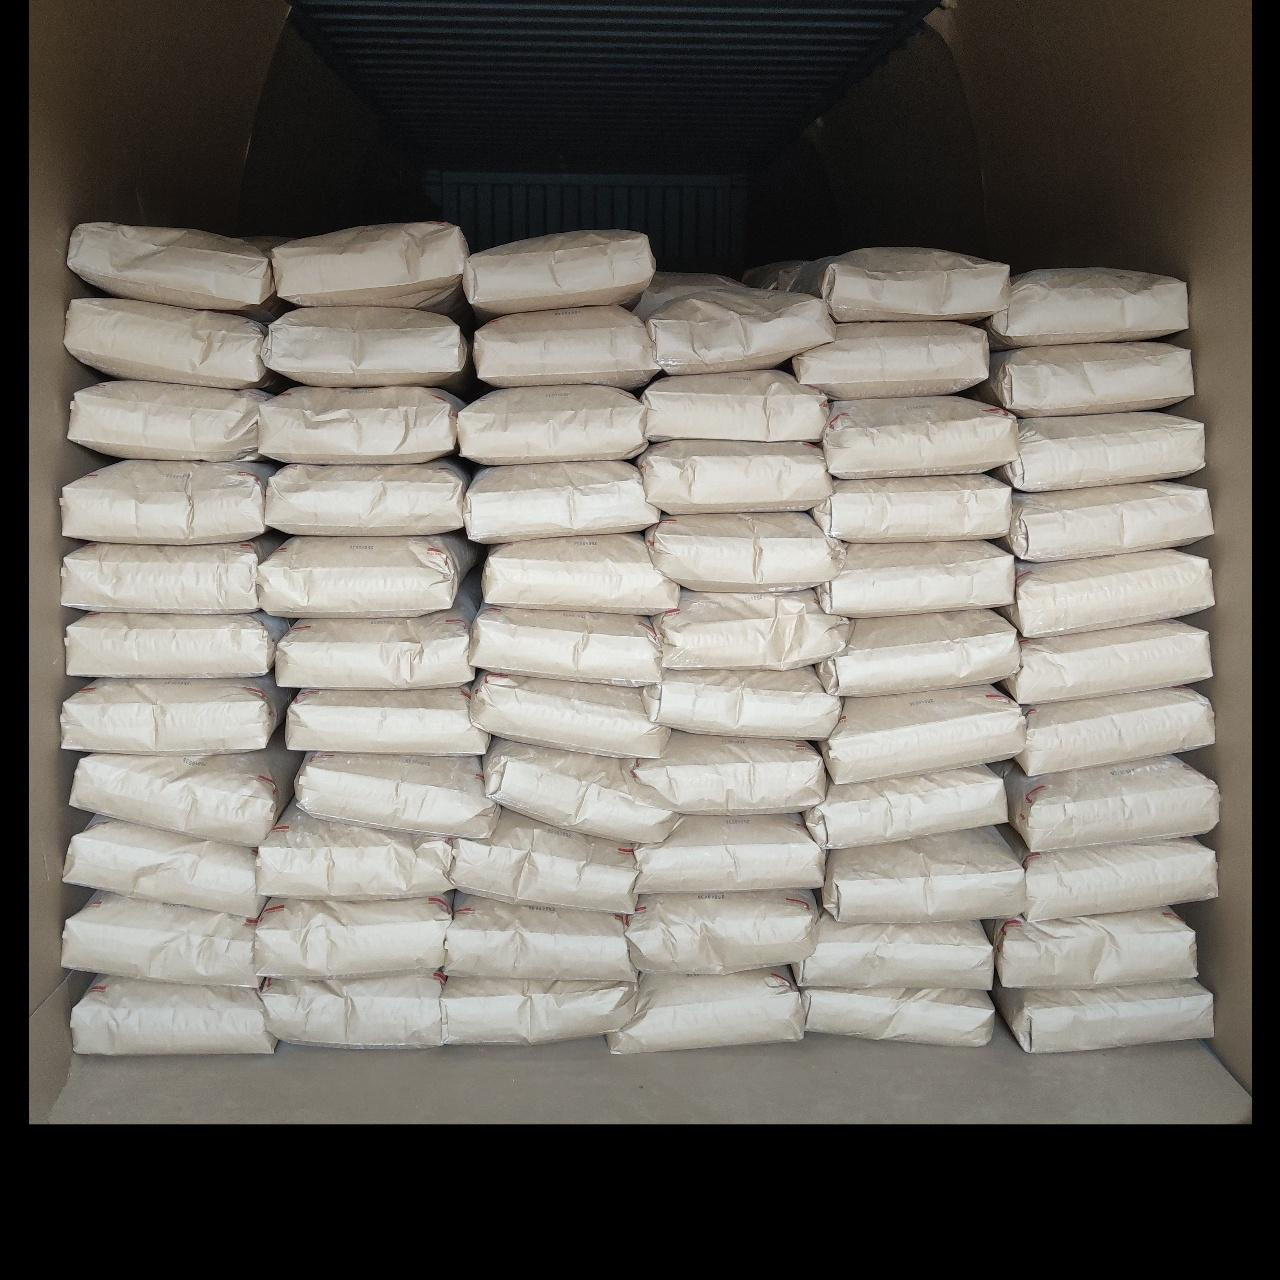sack: (72, 740, 300, 844), (486, 740, 678, 842), (68, 222, 278, 314), (275, 588, 474, 686), (66, 818, 260, 915), (822, 688, 1022, 782), (640, 274, 830, 372), (1008, 758, 1218, 846), (452, 810, 636, 910), (824, 826, 1024, 918), (68, 300, 274, 388), (258, 804, 450, 898), (745, 250, 1006, 318), (64, 892, 258, 983), (1006, 550, 1212, 634), (263, 535, 478, 614), (274, 222, 468, 309), (64, 459, 270, 542), (1017, 688, 1212, 774), (64, 678, 286, 753), (297, 754, 496, 836), (1006, 622, 1210, 702), (818, 612, 1014, 694), (464, 230, 654, 314), (808, 765, 1006, 846), (445, 896, 634, 980), (472, 674, 666, 756), (70, 380, 268, 459), (990, 908, 1194, 986), (64, 538, 278, 612), (608, 971, 802, 1051), (1005, 482, 1210, 558), (266, 308, 468, 386), (634, 731, 824, 813), (1000, 411, 1204, 488), (72, 978, 274, 1054), (260, 386, 462, 462), (467, 462, 658, 542), (824, 396, 1014, 476), (628, 892, 818, 972), (654, 590, 846, 668), (988, 270, 1186, 346), (978, 343, 1190, 414), (484, 535, 676, 612), (268, 459, 467, 535), (792, 324, 988, 399), (996, 982, 1212, 1050), (258, 900, 450, 976), (1026, 840, 1214, 918), (474, 308, 656, 388), (636, 813, 822, 892), (458, 386, 646, 462), (472, 608, 660, 685), (651, 515, 840, 590), (818, 542, 1012, 614), (796, 918, 994, 988), (646, 668, 838, 738), (68, 614, 284, 676), (263, 972, 442, 1046), (442, 978, 638, 1044), (638, 442, 830, 510), (288, 688, 486, 754), (813, 476, 1010, 540), (642, 372, 828, 438), (804, 988, 994, 1044)
